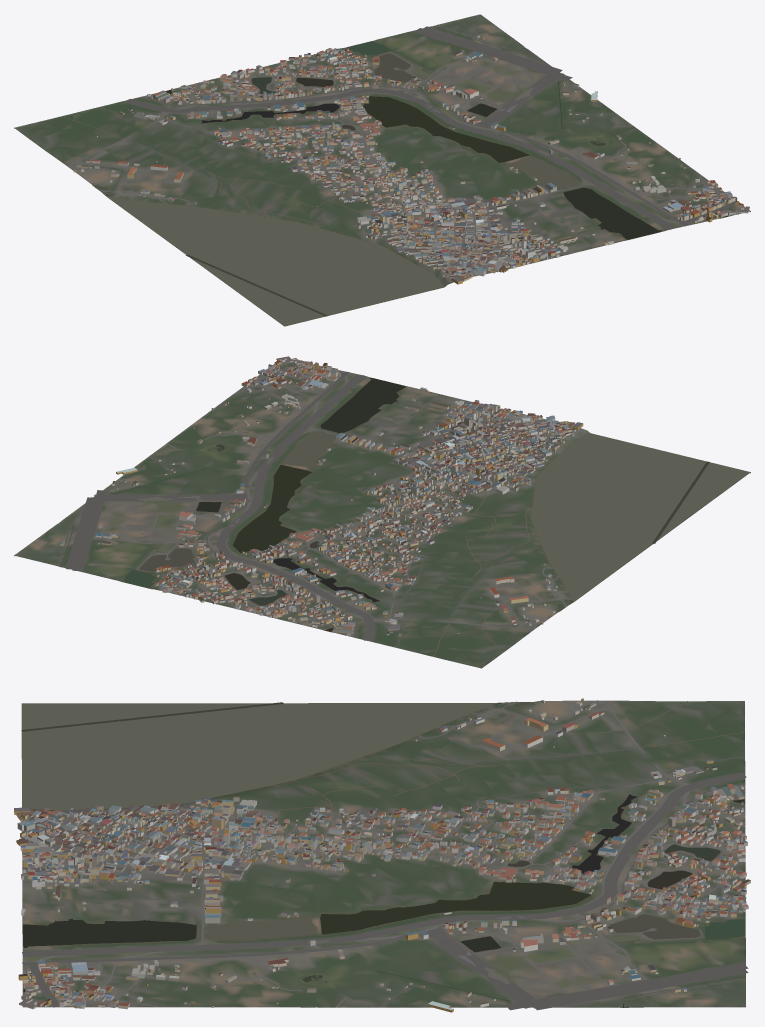
3 views of the same model, one above another, from view 1: azimuth 30°, elevation 25°; view 2: azimuth 150°, elevation 25°; view 3: azimuth 270°, elevation 25° (orthographic). The views are drawn at different scales.
Parts seen in each view (by area): view 1: ground, water, buildings, roads; view 2: ground, buildings, water, roads; view 3: ground, water, buildings, roads.
Part boxes in pixels (bbox=[...]): ground: bbox=[14, 14, 750, 326]; water: bbox=[94, 26, 728, 325]; buildings: bbox=[73, 35, 749, 284]; roads: bbox=[35, 14, 739, 275]; ground: bbox=[14, 359, 750, 668]; buildings: bbox=[60, 356, 583, 636]; water: bbox=[60, 378, 749, 631]; roads: bbox=[15, 363, 567, 656]; ground: bbox=[21, 700, 745, 1007]; water: bbox=[21, 702, 745, 1007]; buildings: bbox=[14, 698, 750, 1012]; roads: bbox=[22, 700, 748, 1010].
Bounding box in the file's own units: 1426 × 39.05 × 1428.
